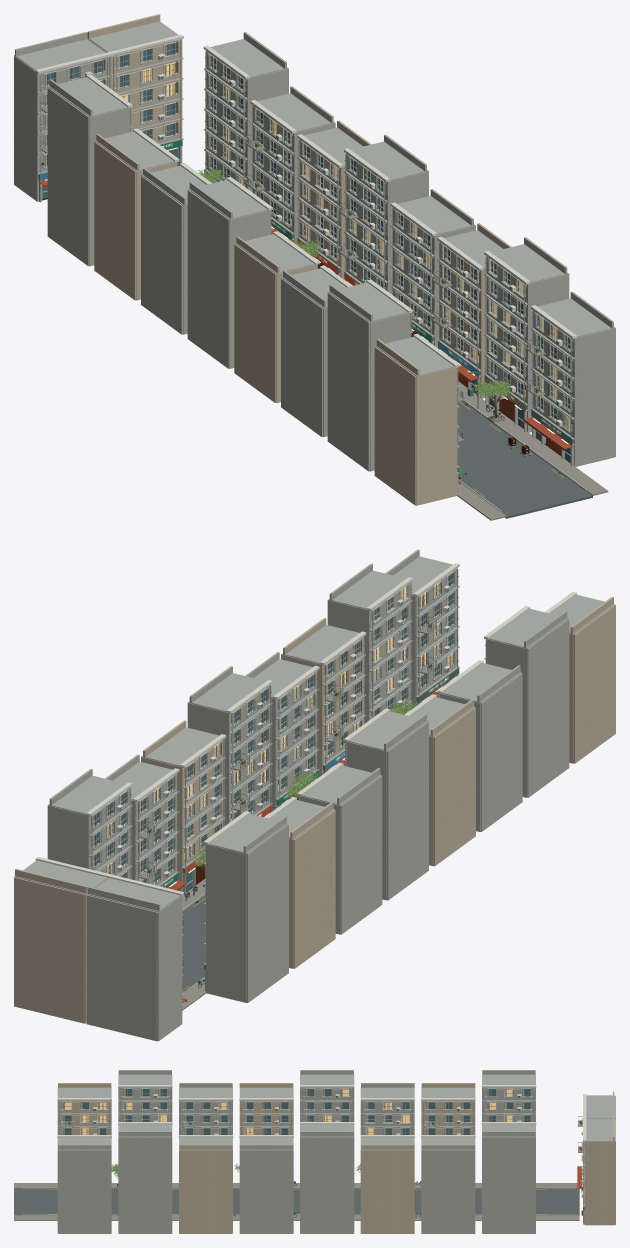
File: street.glb
3 views of the same model, one above another, from view 1: azimuth 30°, elevation 25°; view 2: azimuth 150°, elevation 25°; view 3: azimuth 270°, elevation 25° (orthographic). The views are drawn at different scales.
Visible parts, largest first — view 1: street_ceramic, street_trim, street_warmwall, street_steel, street_white, street_aluminium, street_road, street_glass, street_paving, street_curtain, street_warmglass, street_leaf (+2 smaller); view 2: street_ceramic, street_warmwall, street_trim, street_white, street_steel, street_aluminium, street_glass, street_curtain, street_road, street_warmglass, street_paving, street_leaf; view 3: street_ceramic, street_warmwall, street_trim, street_white, street_road, street_glass, street_steel, street_paving, street_curtain, street_aluminium, street_warmglass.
Part boxes in pixels (x1=…): street_ceramic: x1=14, y1=32, x2=615, y2=471; street_trim: x1=14, y1=21, x2=614, y2=511; street_warmwall: x1=87, y1=14, x2=511, y2=505; street_steel: x1=38, y1=43, x2=573, y2=494; street_white: x1=35, y1=34, x2=576, y2=473; street_aluminium: x1=41, y1=42, x2=570, y2=458; street_road: x1=458, y1=401, x2=592, y2=518; street_glass: x1=42, y1=43, x2=570, y2=462; street_paving: x1=41, y1=108, x2=608, y2=520; street_curtain: x1=44, y1=45, x2=565, y2=426; street_warmglass: x1=47, y1=63, x2=572, y2=429; street_leaf: x1=197, y1=141, x2=539, y2=398; street_ceramic: x1=47, y1=549, x2=569, y2=1041; street_warmwall: x1=14, y1=597, x2=615, y2=1023; street_trim: x1=14, y1=556, x2=614, y2=995; street_white: x1=35, y1=563, x2=576, y2=1000; street_steel: x1=91, y1=572, x2=486, y2=999; street_aluminium: x1=92, y1=572, x2=454, y2=959; street_glass: x1=94, y1=573, x2=452, y2=891; street_curtain: x1=93, y1=576, x2=448, y2=882; street_road: x1=182, y1=895, x2=205, y2=992; street_warmglass: x1=107, y1=583, x2=452, y2=873; street_paving: x1=137, y1=624, x2=437, y2=1010; street_leaf: x1=147, y1=621, x2=431, y2=871; street_ceramic: x1=57, y1=1070, x2=615, y2=1233; street_warmwall: x1=57, y1=1083, x2=615, y2=1233; street_trim: x1=21, y1=1074, x2=614, y2=1224; street_white: x1=57, y1=1085, x2=586, y2=1210; street_road: x1=14, y1=1188, x2=579, y2=1215; street_glass: x1=65, y1=1089, x2=530, y2=1134; street_steel: x1=52, y1=1089, x2=584, y2=1215; street_paving: x1=14, y1=1120, x2=582, y2=1220; street_curtain: x1=63, y1=1089, x2=524, y2=1134; street_aluminium: x1=61, y1=1089, x2=584, y2=1200; street_warmglass: x1=65, y1=1089, x2=513, y2=1134.
Size of the model in its own units: 29.75 by 22.4 by 119.
29 materials, 12 textured.
